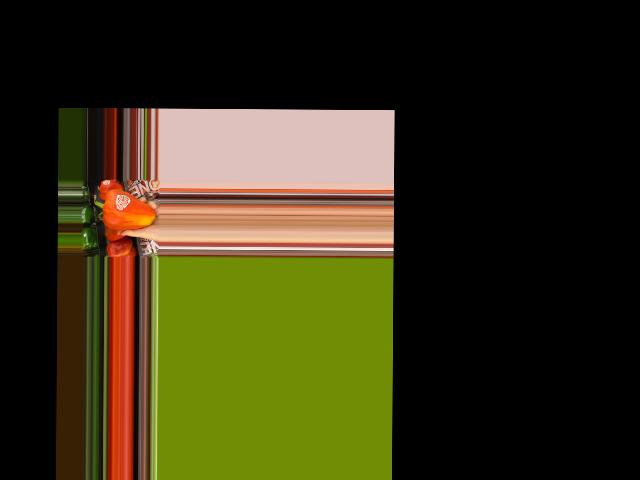bell_pepper: (93, 187, 154, 234)
